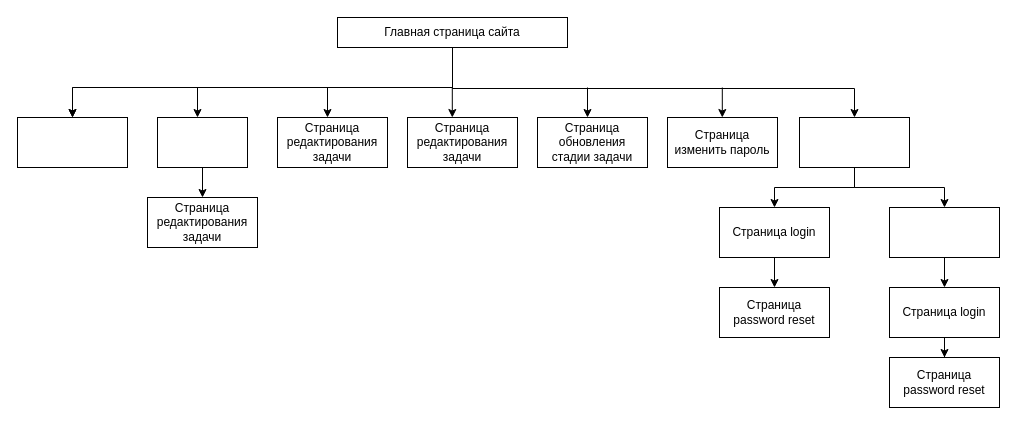
The diagram is 1017 pixels wide and 425 high, and some of its shapes have lost their labels. The box of each missing label's shape, as (x1, y1, x2, y2) in pixels:
Страница logout: (798, 116, 910, 168)
Страница signup: (888, 206, 1000, 258)
Страница задачи: (156, 116, 248, 168)
Страница создание задачи: (16, 116, 128, 168)
